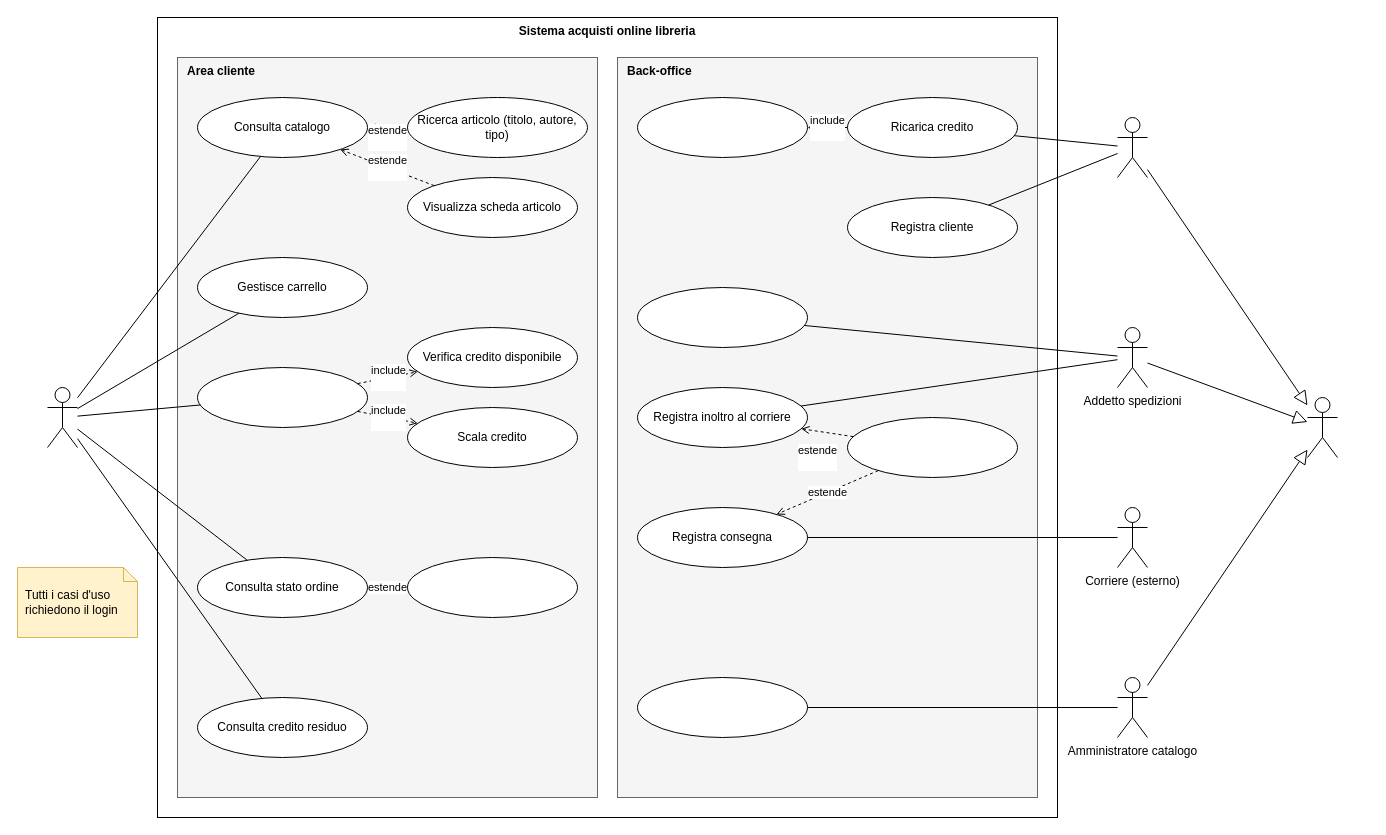
This 1386x835 diagram has some shape labels left out. Each missing label, with the centre of its shape:
Cassiere: the point at 1132,147
Cliente registrato: the point at 62,417
Conferma ordine: the point at 282,397
Consulta storico ordini: the point at 492,587
Gestisce articoli (libri, CD, DVD): the point at 722,707
Identifica cliente: the point at 722,127
Invia notifica e-mail: the point at 932,447
Personale libreria: the point at 1322,427
Visualizza ordini da evadere: the point at 722,317
